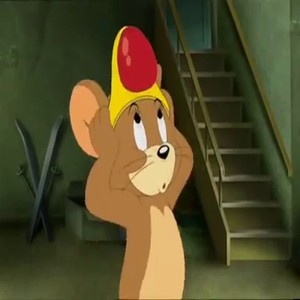Jerry: (70, 27, 209, 296)
